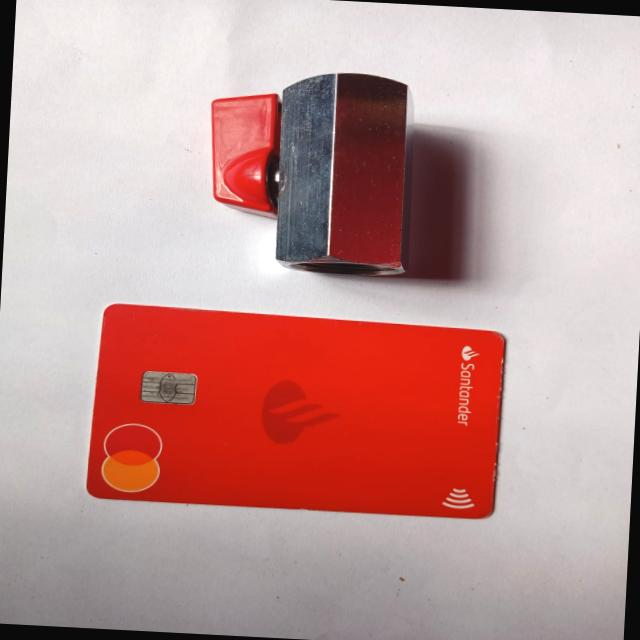cartao: (87, 303, 506, 520)
rosca_interna: (202, 65, 416, 277)
